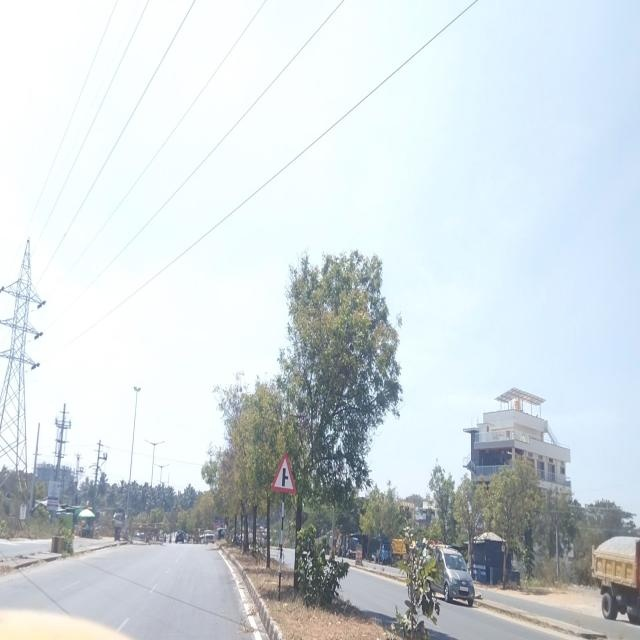bien_nguy_hiem: (272, 454, 296, 493)
